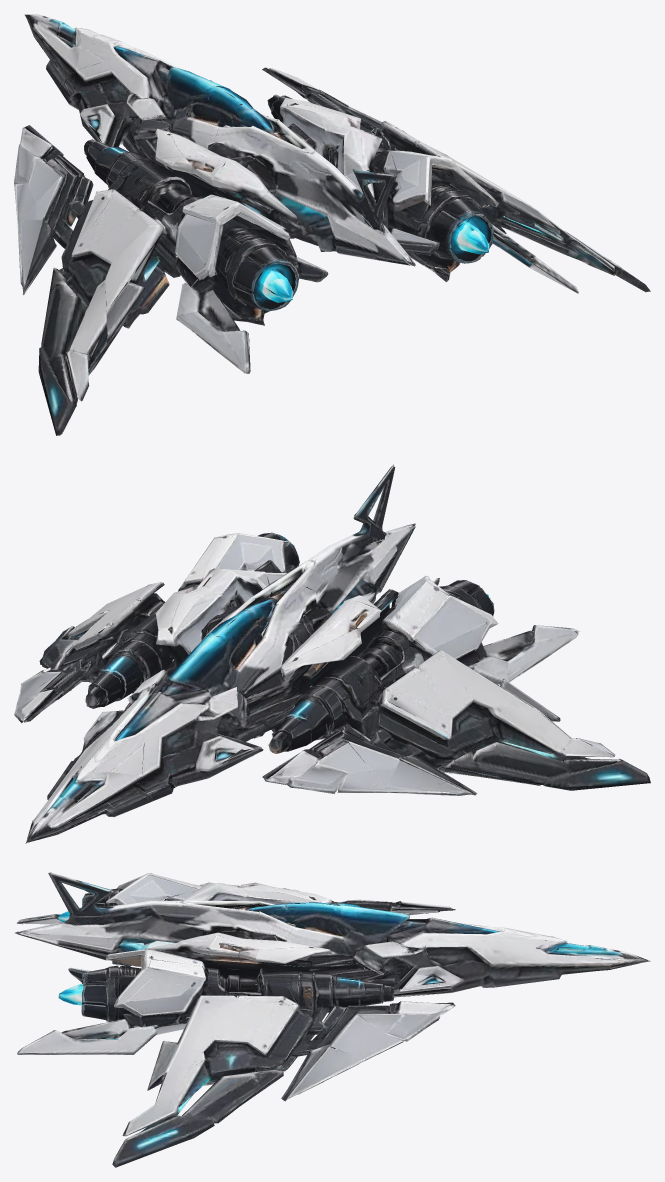
The model's file is vanguard.medium.glb.
3 renders of one model, top to bottom at view 1: azimuth 30°, elevation 25°; view 2: azimuth 150°, elevation 25°; view 3: azimuth 270°, elevation 25°, orthographic. The views are drawn at different scales.
Parts seen in each view (by area): view 1: vanguard_mesh; view 2: vanguard_mesh; view 3: vanguard_mesh.
Part boxes in pixels (left/top/right/bottom): vanguard_mesh: left=14, top=14, right=650, bottom=435; vanguard_mesh: left=14, top=464, right=650, bottom=843; vanguard_mesh: left=15, top=872, right=650, bottom=1167.
Bounding box in the file's own units: 1.76 × 0.6152 × 2.
Materials: 1 (1 with a texture image).
